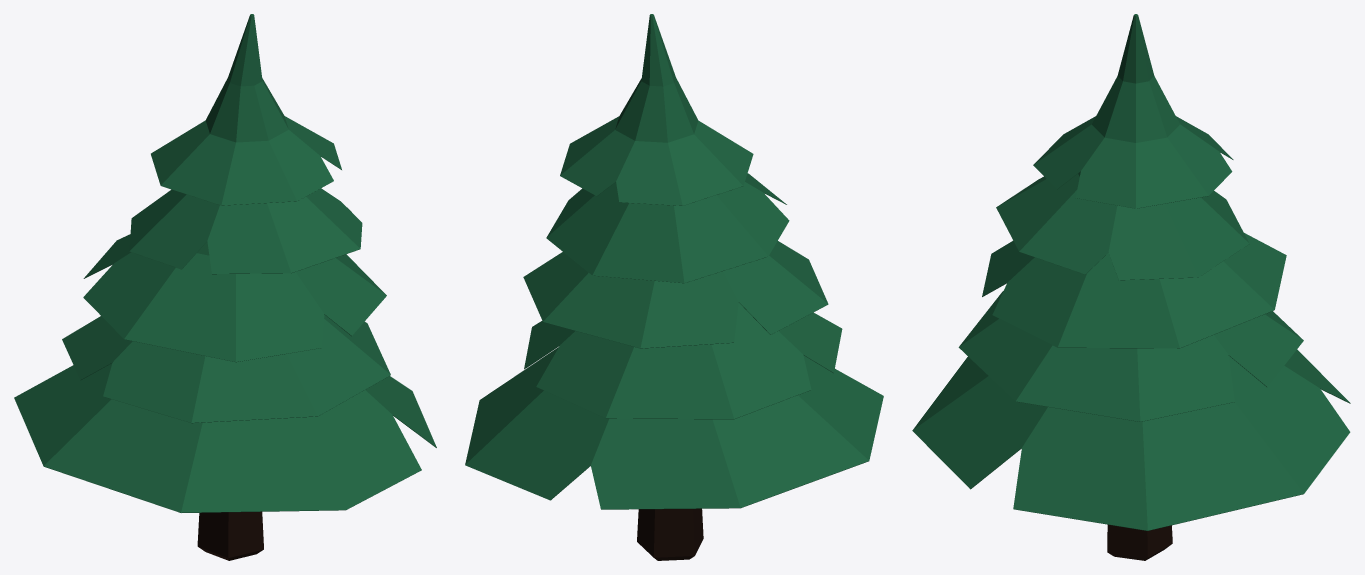
Rendered from light_fat_pine_tree1.obj.
3 views of the same model, side by side, from view 1: azimuth 30°, elevation 25°; view 2: azimuth 150°, elevation 25°; view 3: azimuth 270°, elevation 25° (orthographic). The views are drawn at different scales.
Parts seen in each view (by area): view 1: Tree4_1_Cylinder.034; view 2: Tree4_1_Cylinder.034; view 3: Tree4_1_Cylinder.034.
Part boxes in pixels (box(x1,y1,x2,y2)): Tree4_1_Cylinder.034: box(14, 14, 436, 560); Tree4_1_Cylinder.034: box(465, 14, 883, 560); Tree4_1_Cylinder.034: box(912, 14, 1350, 560).
Bounding box in the file's own units: 6.72 × 8.99 × 6.55.
